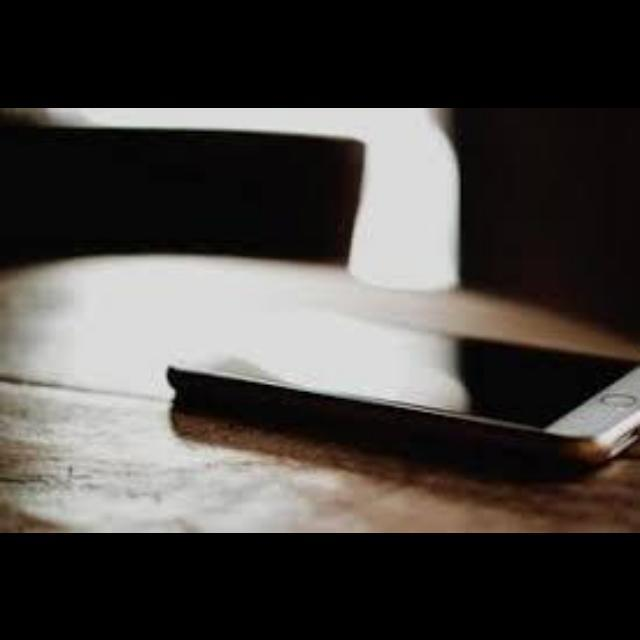phone: (138, 304, 637, 492)
